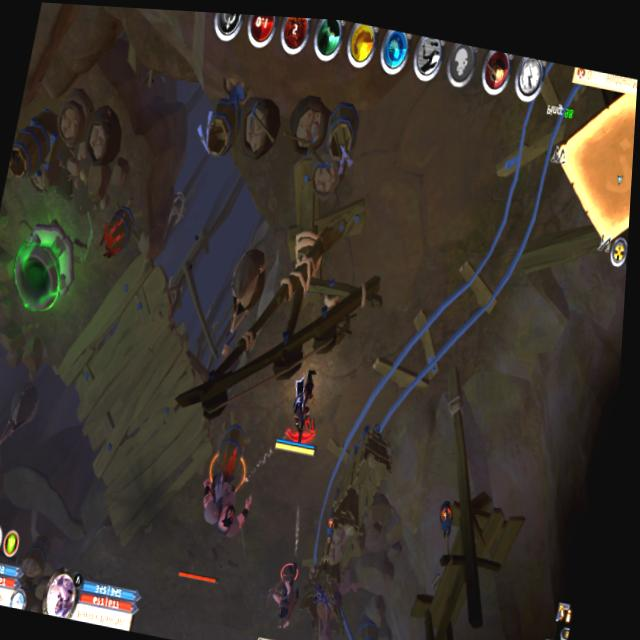ore: (170, 431, 267, 600), (252, 557, 322, 640)
red: (270, 358, 337, 467)
